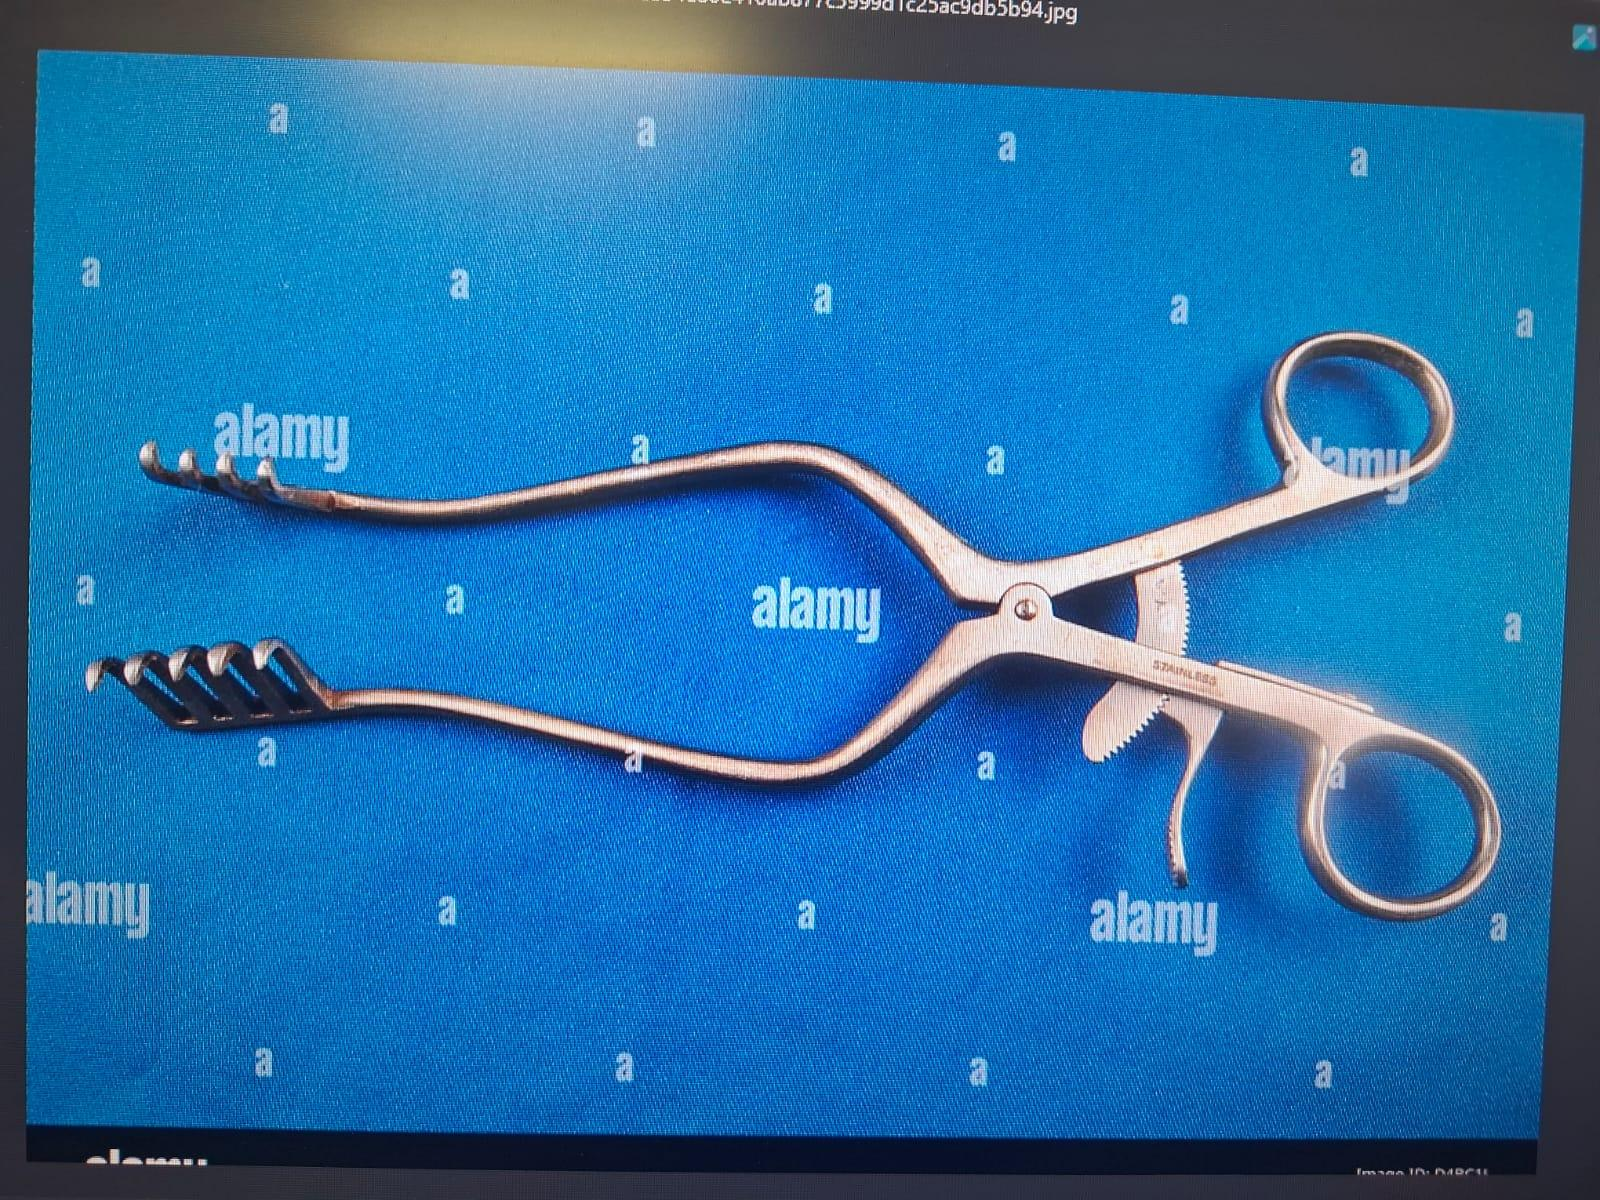Self Retractor: (71, 313, 1514, 938)
